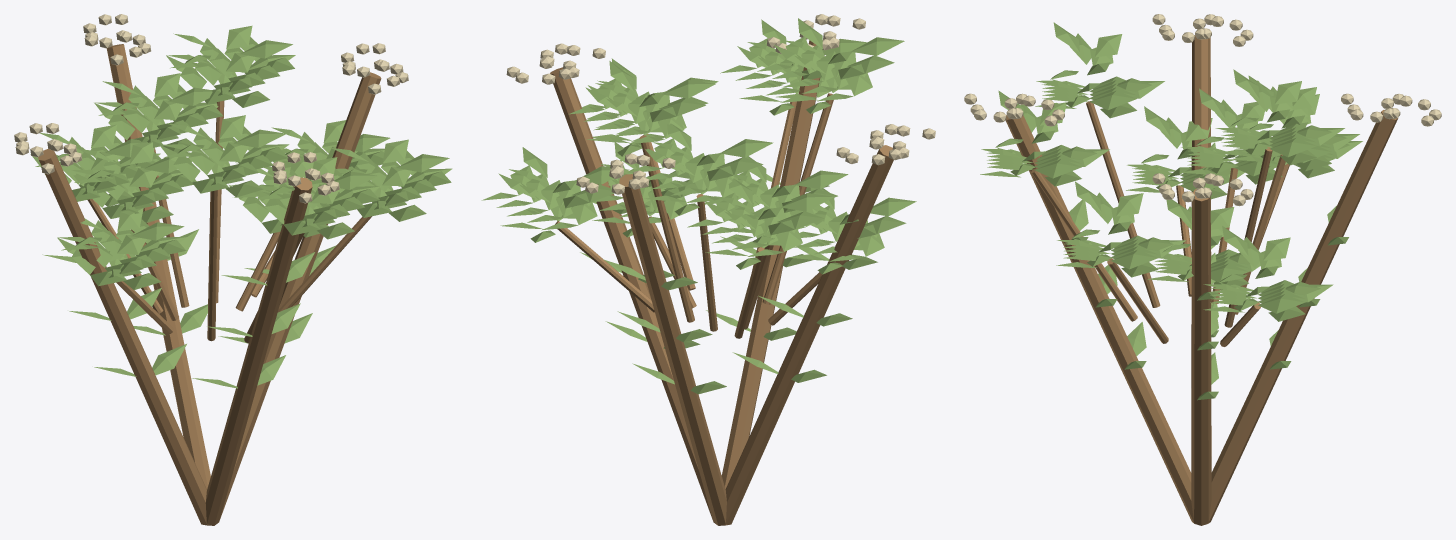
3 renders of one model, left to right at view 1: azimuth 30°, elevation 25°; view 2: azimuth 150°, elevation 25°; view 3: azimuth 270°, elevation 25°, orthographic.
Parts seen in each view (by area): view 1: GF-159 Flat flowering elder shrub batched; view 2: GF-159 Flat flowering elder shrub batched; view 3: GF-159 Flat flowering elder shrub batched.
Part boxes in pixels (left/top/right/bottom): GF-159 Flat flowering elder shrub batched: left=14, top=14, right=452, bottom=525; GF-159 Flat flowering elder shrub batched: left=481, top=14, right=935, bottom=525; GF-159 Flat flowering elder shrub batched: left=964, top=14, right=1441, bottom=525.
Size of the model in its own units: 1.32 by 1.44 by 1.39.
